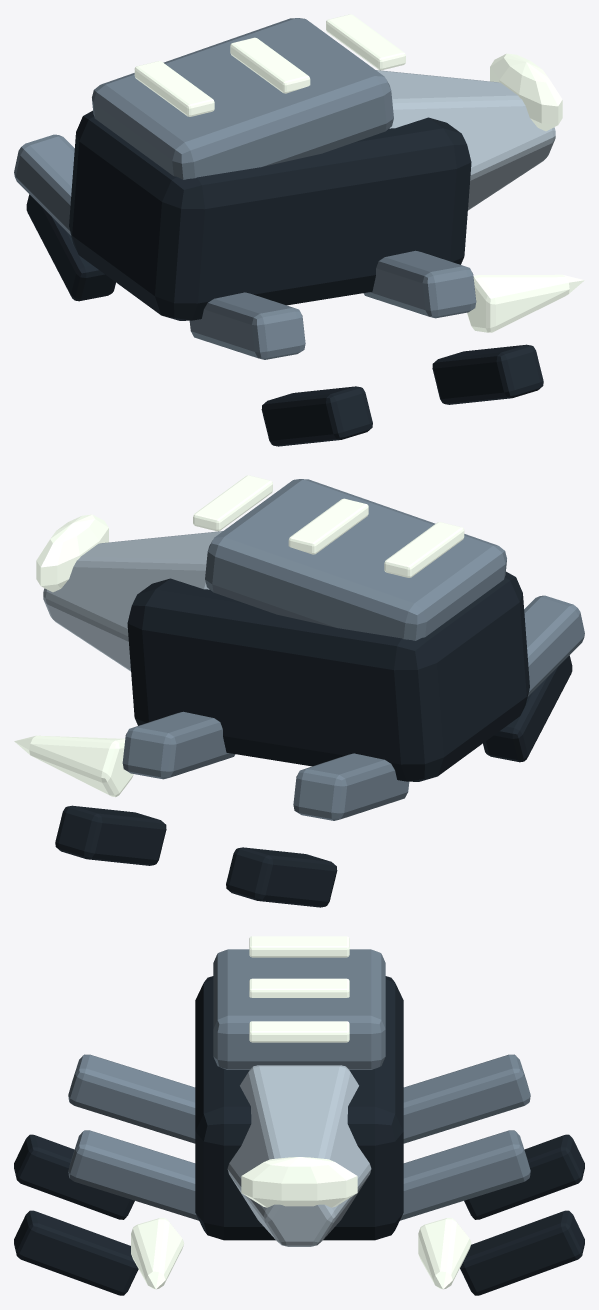
File: enemy_crawler.glb
3 views of the same model, one above another, from view 1: azimuth 30°, elevation 25°; view 2: azimuth 150°, elevation 25°; view 3: azimuth 270°, elevation 25° (orthographic). The views are drawn at different scales.
Visible parts, largest first — view 1: CrawlerBody, SpineArmor, HeadBlade, LegUpper_-1_0, LegUpper_-1_1, LegLower_-1_0, LegLower_-1_1, Claw_-1, LegUpper_1_0, LegLower_1_0, PredatorEye, SpineGlow_-0.28 (+2 smaller); view 2: CrawlerBody, SpineArmor, HeadBlade, LegUpper_1_0, LegUpper_1_1, LegLower_1_0, LegLower_1_1, Claw_1, LegUpper_-1_0, LegLower_-1_0, PredatorEye, SpineGlow_-0.28 (+2 smaller); view 3: CrawlerBody, SpineArmor, HeadBlade, LegUpper_1_1, LegUpper_-1_1, LegUpper_1_0, LegUpper_-1_0, LegLower_1_1, LegLower_-1_1, PredatorEye, LegLower_1_0, LegLower_-1_0 (+5 smaller).
Boxes of the visible parts, bbox=[...] form: CrawlerBody: bbox=[69, 110, 471, 320]; SpineArmor: bbox=[92, 18, 393, 179]; HeadBlade: bbox=[376, 70, 555, 210]; LegUpper_-1_0: bbox=[189, 292, 305, 359]; LegUpper_-1_1: bbox=[363, 250, 476, 318]; LegLower_-1_0: bbox=[261, 386, 372, 446]; LegLower_-1_1: bbox=[432, 344, 543, 404]; Claw_-1: bbox=[467, 274, 584, 332]; LegUpper_1_0: bbox=[14, 134, 74, 235]; LegLower_1_0: bbox=[26, 194, 115, 301]; PredatorEye: bbox=[490, 53, 562, 131]; SpineGlow_-0.28: bbox=[134, 61, 214, 116]; CrawlerBody: bbox=[127, 571, 529, 781]; SpineArmor: bbox=[205, 479, 506, 640]; HeadBlade: bbox=[43, 531, 222, 671]; LegUpper_1_0: bbox=[293, 753, 409, 820]; LegUpper_1_1: bbox=[122, 711, 235, 779]; LegLower_1_0: bbox=[226, 847, 337, 907]; LegLower_1_1: bbox=[55, 805, 166, 865]; Claw_1: bbox=[14, 735, 133, 797]; LegUpper_-1_0: bbox=[524, 595, 584, 696]; LegLower_-1_0: bbox=[483, 655, 572, 762]; PredatorEye: bbox=[36, 514, 108, 592]; SpineGlow_-0.28: bbox=[384, 522, 464, 577]; CrawlerBody: bbox=[195, 976, 403, 1240]; SpineArmor: bbox=[213, 949, 385, 1069]; HeadBlade: bbox=[227, 1065, 371, 1246]; LegUpper_1_1: bbox=[400, 1130, 530, 1220]; LegUpper_-1_1: bbox=[68, 1130, 198, 1220]; LegUpper_1_0: bbox=[403, 1054, 530, 1143]; LegUpper_-1_0: bbox=[68, 1054, 195, 1143]; LegLower_1_1: bbox=[460, 1210, 584, 1295]; LegLower_-1_1: bbox=[14, 1210, 138, 1295]; PredatorEye: bbox=[241, 1157, 357, 1207]; LegLower_1_0: bbox=[464, 1134, 584, 1219]; LegLower_-1_0: bbox=[14, 1134, 134, 1219].
Bounding box in the file's own units: 1.26 × 0.8139 × 1.59.
